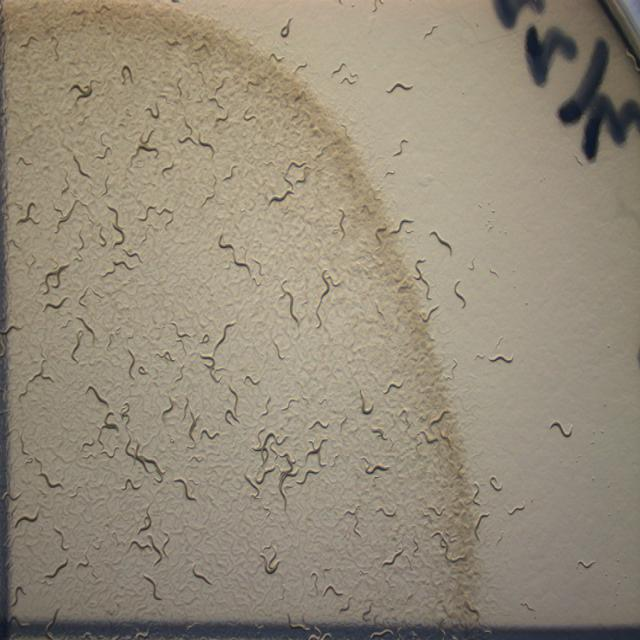filarid: (218, 234, 260, 285), (200, 322, 235, 379), (474, 334, 514, 371), (148, 532, 170, 565), (281, 285, 299, 324), (430, 230, 452, 255), (361, 455, 389, 474), (174, 477, 196, 500), (143, 574, 161, 601), (452, 279, 468, 309), (550, 420, 572, 439), (192, 565, 211, 584), (171, 322, 192, 339), (361, 390, 374, 415), (139, 507, 151, 533), (370, 426, 388, 442), (271, 190, 294, 202), (508, 500, 525, 515), (489, 474, 502, 492), (130, 539, 150, 549), (489, 266, 500, 278), (199, 334, 210, 344), (469, 259, 475, 271), (389, 382, 401, 388), (479, 514, 489, 521)
